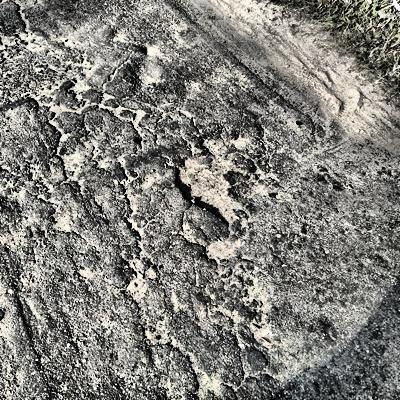pothole: (171, 156, 246, 224), (202, 236, 239, 261)
